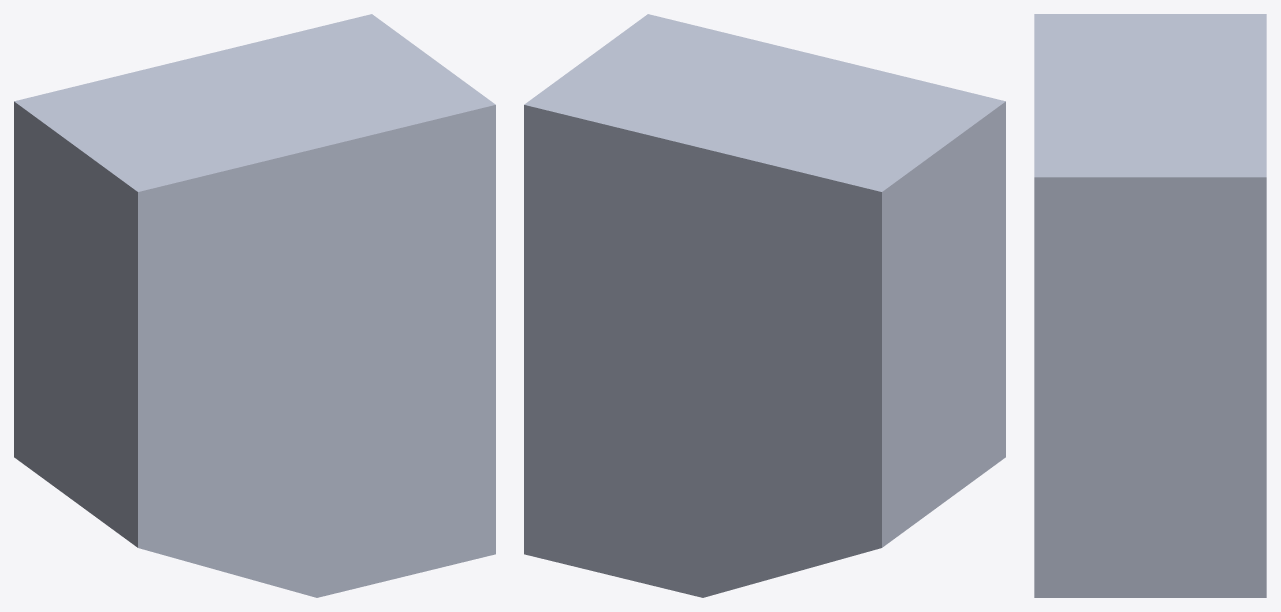
The model's file is Clip_A.fbx.
3 renders of one model, left to right at view 1: azimuth 30°, elevation 25°; view 2: azimuth 150°, elevation 25°; view 3: azimuth 270°, elevation 25°, orthographic. The views are drawn at different scales.
Visible parts, largest first — view 1: clip_a; view 2: clip_a; view 3: clip_a.
Part boxes in pixels (<box>): clip_a: <box>14,14,495,597</box>; clip_a: <box>524,14,1005,597</box>; clip_a: <box>1034,14,1266,597</box>.
Size of the model in its own units: 10 by 12 by 6.
